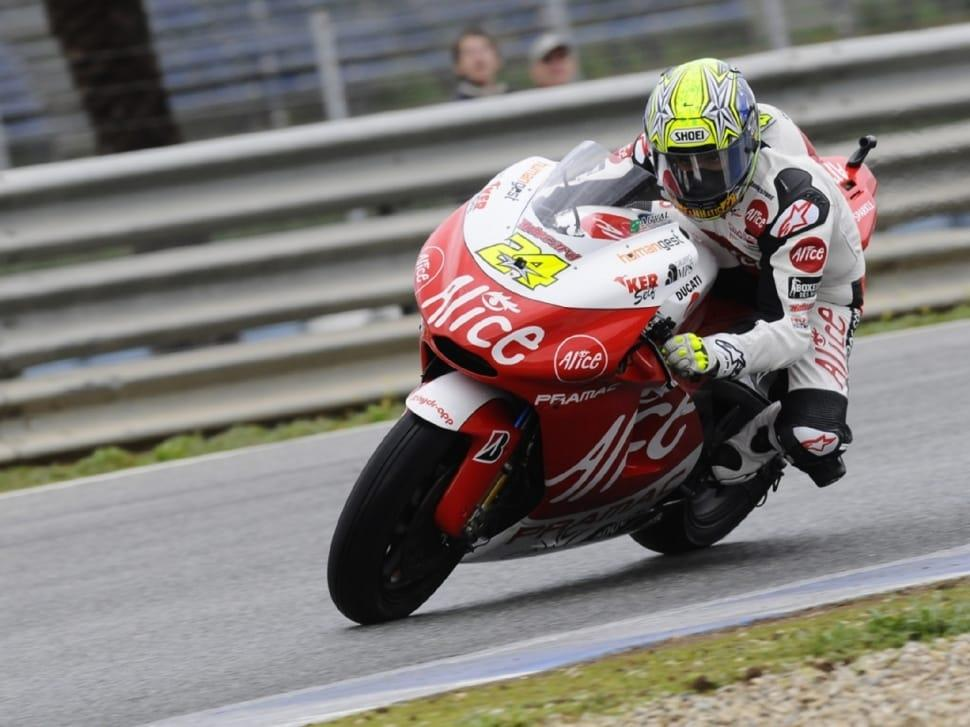Helmet: (640, 55, 761, 221)
